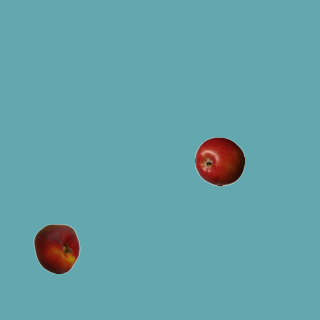Apple Braeburn: (194, 136, 244, 186)
Nectarine Flat: (31, 223, 81, 273)
